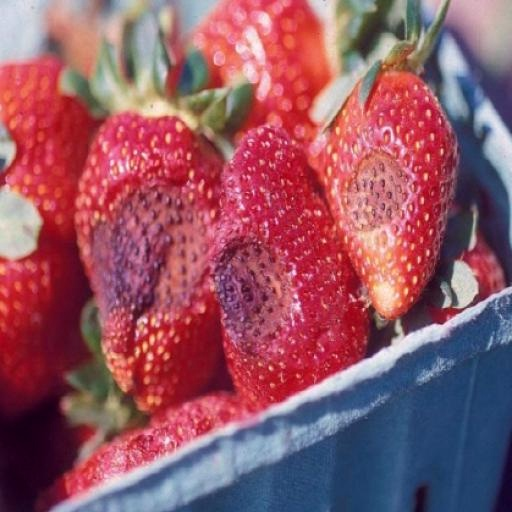Anthracnose Fruit Rot: (297, 169, 430, 329), (210, 232, 302, 359), (95, 140, 174, 238)
